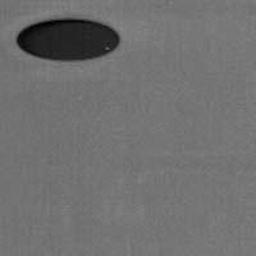Punching: (15, 18, 119, 63)
